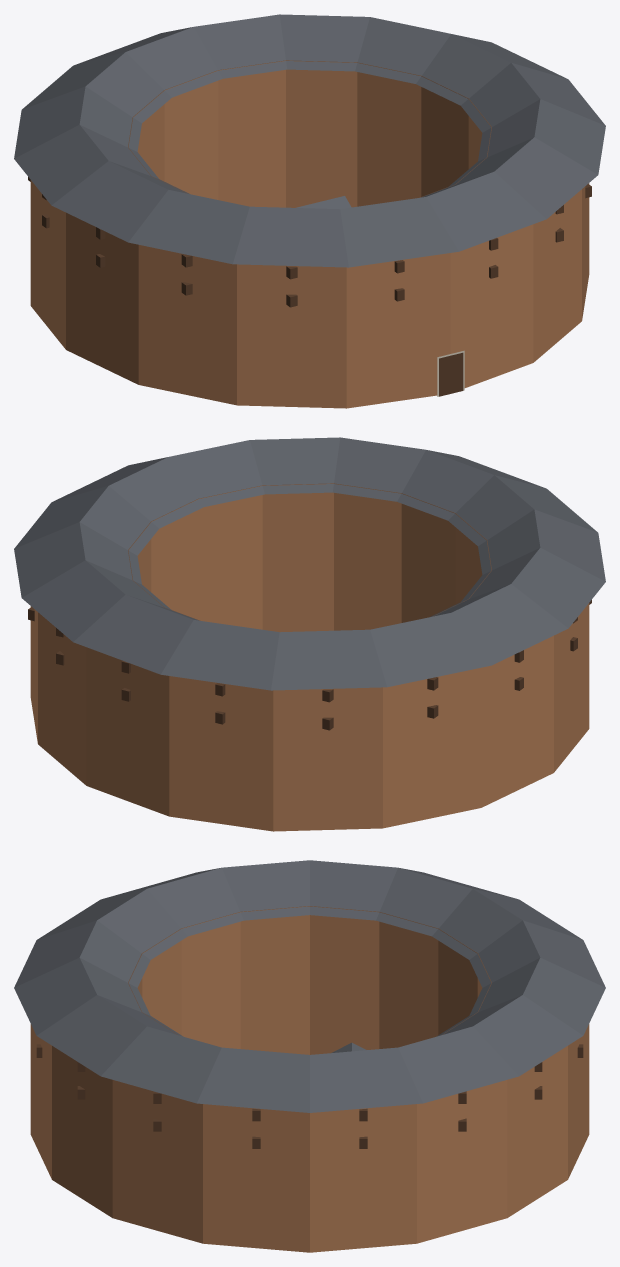
Rendered from tulou.glb.
The picture shows the model from 3 angles, top to bottom: view 1: azimuth 30°, elevation 25°; view 2: azimuth 150°, elevation 25°; view 3: azimuth 270°, elevation 25°; orthographic projection.
Parts seen in each view (by area): view 1: tulou; view 2: tulou; view 3: tulou.
Part boxes in pixels (box(x1,y1,x2,y2)): tulou: box(14, 14, 605, 408); tulou: box(14, 437, 605, 831); tulou: box(14, 860, 605, 1252).
Bounding box in the file's own units: 42.4 × 14 × 42.4.
1 material, 1 textured.
